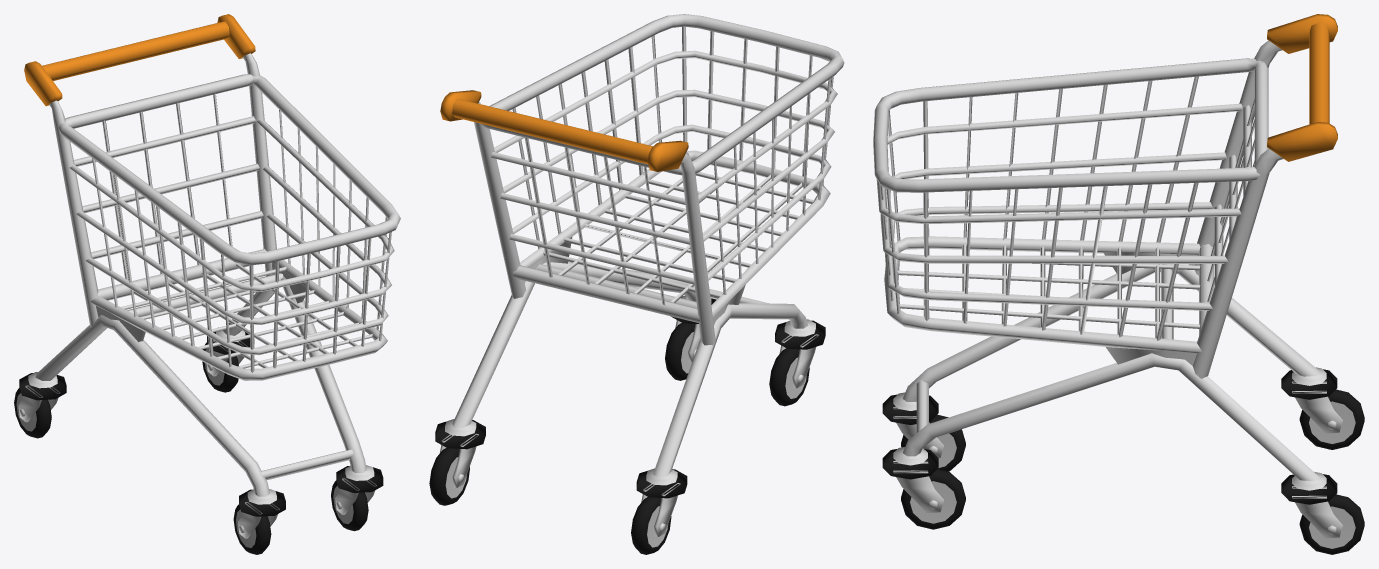
File: shoppingCart.gltf
The picture shows the model from 3 angles, left to right: view 1: azimuth 30°, elevation 25°; view 2: azimuth 150°, elevation 25°; view 3: azimuth 270°, elevation 25°; orthographic projection. The views are drawn at different scales.
Parts seen in each view (by area): view 1: Einkaufswagen_0; view 2: Einkaufswagen_0; view 3: Einkaufswagen_0.
Part boxes in pixels (x1=…): Einkaufswagen_0: x1=14, y1=14, x2=400, y2=554; Einkaufswagen_0: x1=429, y1=14, x2=844, y2=554; Einkaufswagen_0: x1=873, y1=14, x2=1364, y2=554.
Size of the model in its own units: 0.5603 by 0.8765 by 0.9057.
